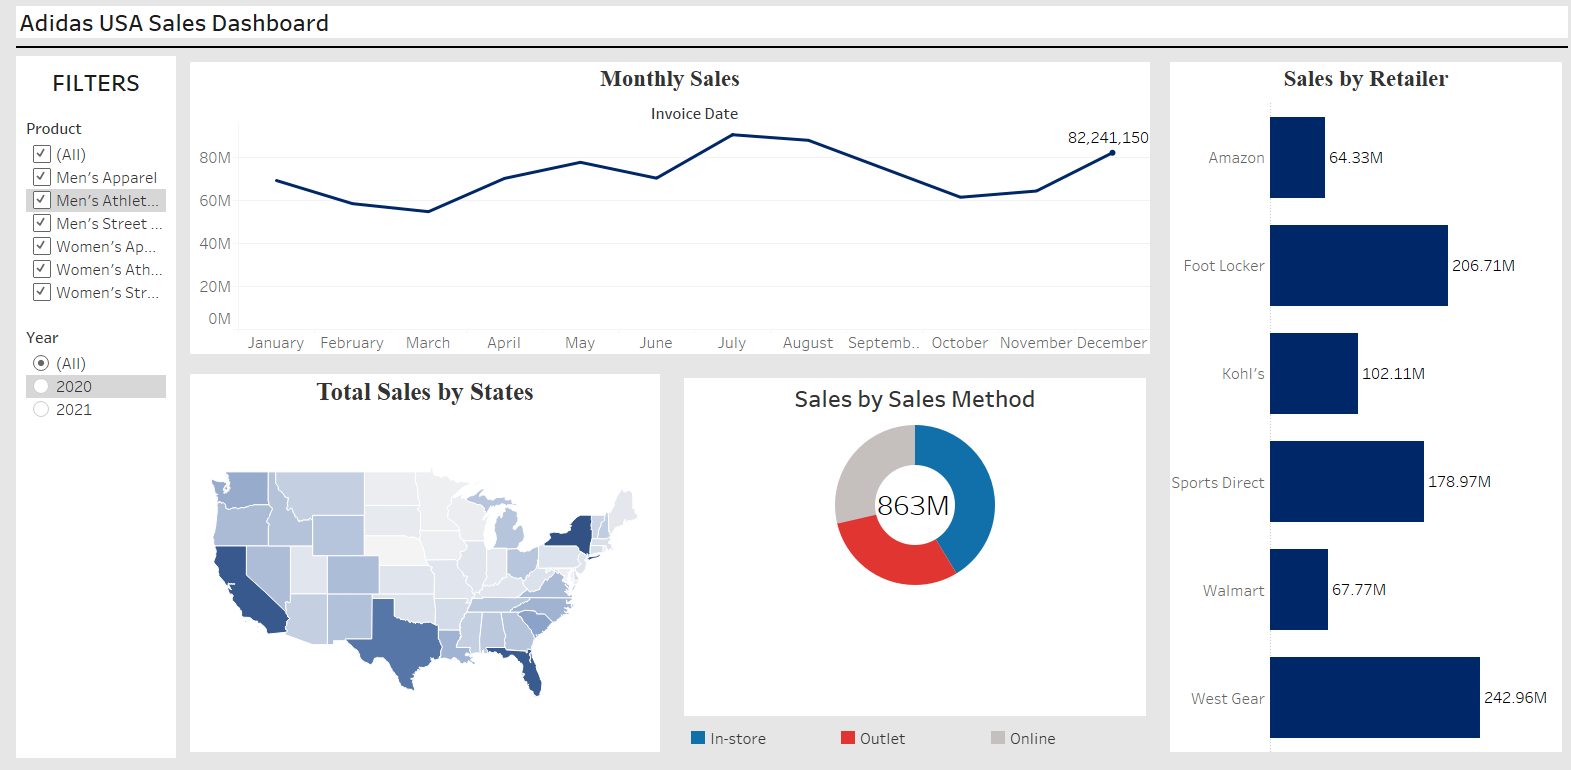

The page's visual inventory and layout, read from the dashboard file:
{"tool":"tableau","page":{"name":"Dashboard 1","canvas":[1600,800],"ordinal":0},"visuals":[{"type":"text","box":[20,20,1560,40]},{"type":"blank","box":[20,60,1560,10]},{"type":"worksheet","title":"Monthly Sales","mark":"Automatic","rows":["Total Sales"],"cols":["Invoice Date"],"box":[188,70,980,312]},{"type":"worksheet","title":"Sales by Retailer","mark":"Automatic","rows":["Retailer"],"cols":["Total Sales"],"box":[1168,70,412,710]},{"type":"text","box":[24,74,160,52]},{"type":"filter","title":"Sales by Sales Method","param":"[federated.0m6kkd90g377yv146t0j21uxubgb].[none:Product:nk]","box":[24,126,160,209]},{"type":"filter","title":"Sales by Sales Method","param":"[federated.0m6kkd90g377yv146t0j21uxubgb].[yr:Invoice Date:ok]","box":[24,335,160,162]},{"type":"worksheet","title":"Total Sales by States","mark":"Automatic","box":[188,382,490,398]},{"type":"worksheet","title":"Sales by Sales Method","mark":"Pie","cols":["Calculation_803048128883126274","Calculation_803048128884260868"],"box":[688,392,470,346]},{"type":"legend","title":"Sales by Sales Method","param":"[federated.0m6kkd90g377yv146t0j21uxubgb].[none:Sales Method:nk]","box":[688,738,470,32]}]}

Visuals, with their boxes in screenshot pixels (x1, y1, x2, y2), scaled from the page's 1600x800 canvas onto the 1571x770 screenshot:
text: select_region(20, 19, 1551, 58)
blank: select_region(20, 58, 1551, 67)
"Monthly Sales" worksheet: select_region(185, 67, 1147, 368)
"Sales by Retailer" worksheet: select_region(1147, 67, 1551, 751)
text: select_region(24, 71, 181, 121)
"Sales by Sales Method" filter: select_region(24, 121, 181, 322)
"Sales by Sales Method" filter: select_region(24, 322, 181, 478)
"Total Sales by States" worksheet: select_region(185, 368, 666, 751)
"Sales by Sales Method" worksheet (Pie marks): select_region(676, 377, 1137, 710)
"Sales by Sales Method" legend: select_region(676, 710, 1137, 741)
